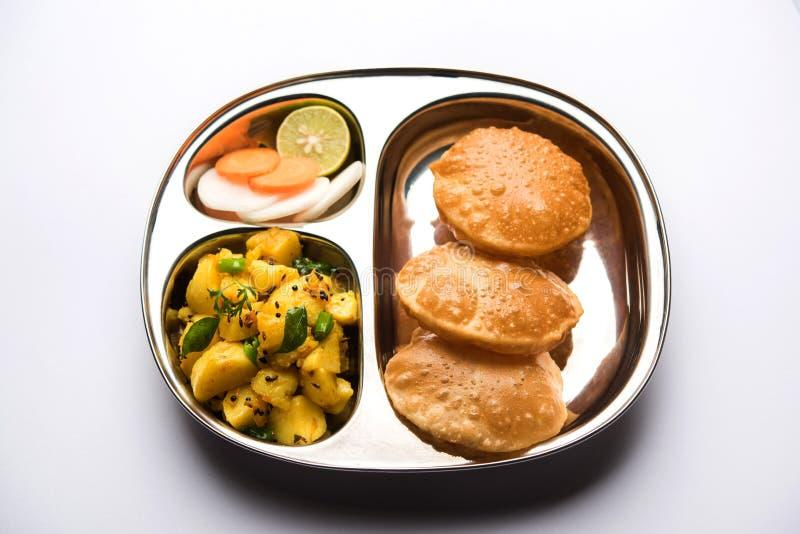puri: (390, 120, 620, 463)
